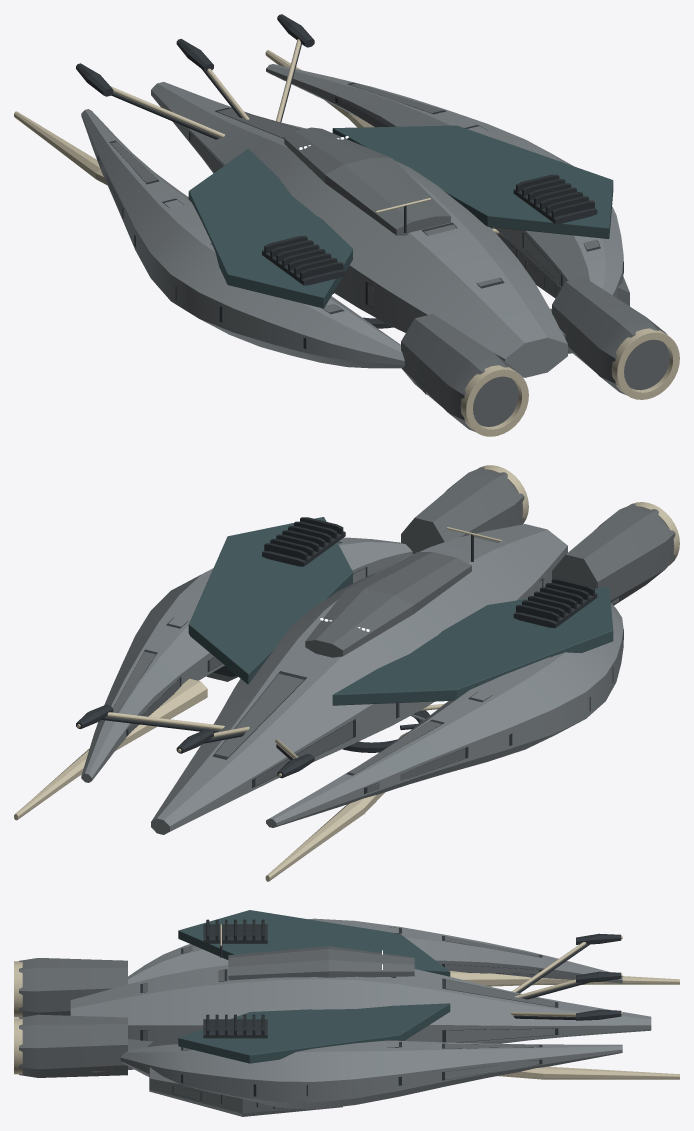
The model's file is cruiser_horizon.glb.
The picture shows the model from 3 angles, top to bottom: view 1: azimuth 30°, elevation 25°; view 2: azimuth 150°, elevation 25°; view 3: azimuth 270°, elevation 25°; orthographic projection. The views are drawn at different scales.
Parts seen in each view (by area): view 1: v4_council_hull, v4_council_secondary, v4_council_paint, v4_council_trim, v4_council_dark, v4_council_ceramic; view 2: v4_council_hull, v4_council_paint, v4_council_secondary, v4_council_trim, v4_council_dark, v4_council_ceramic; view 3: v4_council_hull, v4_council_secondary, v4_council_paint, v4_council_dark, v4_council_trim, v4_council_ceramic.
Boxes of the visible parts, <box> form: v4_council_hull: <box>81,64,623,377</box>; v4_council_secondary: <box>98,83,669,431</box>; v4_council_paint: <box>188,125,613,308</box>; v4_council_trim: <box>14,39,679,436</box>; v4_council_dark: <box>76,14,623,348</box>; v4_council_ceramic: <box>264,174,594,279</box>; v4_council_hull: <box>81,524,623,834</box>; v4_council_paint: <box>188,517,613,705</box>; v4_council_secondary: <box>113,467,675,792</box>; v4_council_trim: <box>14,465,679,881</box>; v4_council_dark: <box>76,531,623,793</box>; v4_council_ceramic: <box>264,517,594,622</box>; v4_council_hull: <box>70,918,651,1109</box>; v4_council_secondary: <box>19,936,577,1116</box>; v4_council_paint: <box>178,910,450,1063</box>; v4_council_dark: <box>140,924,621,1108</box>; v4_council_trim: <box>14,924,679,1099</box>; v4_council_ceramic: <box>206,919,264,1035</box>.
Bounding box in the file's own units: 59.4 × 21.23 × 107.
